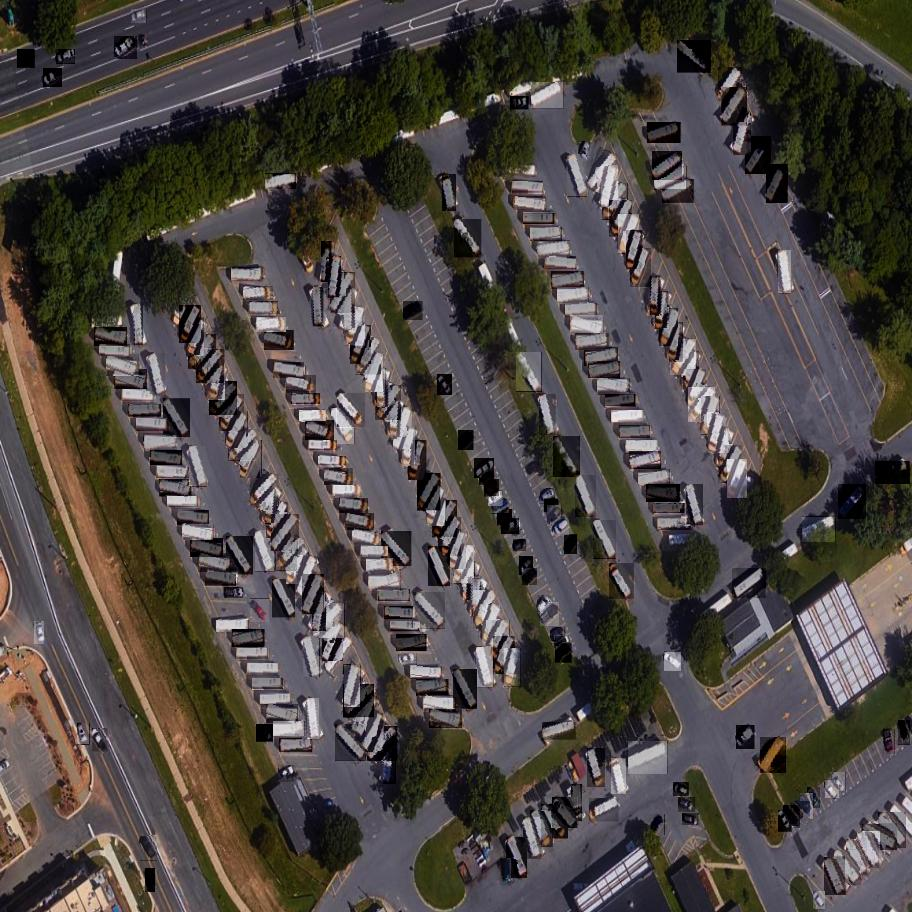large-vehicle: (625, 741, 674, 775), (412, 592, 447, 628), (334, 725, 368, 762), (586, 153, 619, 191), (676, 40, 713, 73), (324, 637, 356, 675), (453, 219, 484, 258), (312, 603, 346, 638), (366, 726, 400, 761), (552, 436, 581, 477), (381, 531, 414, 567), (342, 685, 378, 718), (271, 515, 302, 552), (163, 399, 192, 438), (249, 474, 282, 508), (688, 387, 719, 423), (731, 568, 768, 598), (878, 812, 908, 849), (329, 273, 356, 314), (225, 537, 254, 575), (744, 137, 773, 175), (515, 353, 543, 392), (721, 87, 749, 126), (336, 394, 368, 428), (188, 335, 219, 370), (718, 445, 746, 483), (275, 538, 307, 571), (208, 381, 239, 415), (196, 349, 227, 383), (838, 484, 868, 519), (539, 804, 569, 839), (760, 737, 788, 774), (355, 338, 383, 375), (417, 474, 444, 512), (228, 430, 261, 461), (834, 851, 863, 886), (670, 339, 698, 375), (602, 184, 630, 220), (272, 579, 297, 619), (593, 520, 618, 560), (861, 824, 898, 851), (218, 394, 245, 431), (473, 591, 499, 629), (801, 517, 839, 543), (856, 832, 882, 870), (375, 386, 403, 421), (609, 564, 637, 599), (438, 517, 463, 556), (453, 670, 478, 709), (765, 164, 790, 203), (505, 837, 528, 879), (432, 501, 458, 538), (486, 621, 512, 658), (302, 575, 326, 615), (362, 713, 386, 753), (651, 152, 684, 181), (286, 547, 311, 585), (717, 67, 744, 102), (531, 83, 566, 110), (428, 546, 451, 587), (356, 697, 379, 738), (574, 476, 597, 517), (493, 636, 517, 675), (331, 409, 357, 445), (240, 440, 264, 479), (824, 858, 849, 895), (265, 502, 290, 539), (225, 411, 250, 448), (566, 155, 588, 197), (727, 459, 750, 499), (530, 810, 554, 848), (178, 305, 202, 343), (322, 621, 344, 662), (297, 557, 319, 598), (609, 201, 634, 237), (629, 248, 652, 287), (552, 797, 580, 829), (393, 407, 414, 449), (654, 166, 689, 191), (453, 546, 476, 584), (350, 326, 372, 365), (344, 307, 366, 346), (618, 215, 640, 254), (874, 461, 911, 484), (846, 839, 869, 876), (524, 817, 544, 859), (732, 113, 752, 155), (658, 309, 680, 347), (686, 369, 708, 407), (255, 531, 275, 572), (426, 488, 447, 527), (588, 798, 622, 822), (408, 440, 428, 480), (365, 355, 386, 393), (662, 180, 695, 204), (482, 605, 502, 644), (189, 446, 208, 487), (344, 666, 363, 707), (148, 353, 166, 396), (701, 397, 721, 435), (708, 414, 727, 454), (303, 636, 321, 678), (539, 394, 557, 436), (601, 165, 619, 207), (106, 354, 140, 376), (586, 748, 605, 787), (186, 319, 206, 356), (476, 647, 494, 688), (686, 485, 704, 526), (208, 363, 227, 401), (198, 553, 232, 574), (114, 369, 148, 390), (266, 705, 300, 726), (570, 315, 604, 336), (647, 122, 681, 143), (449, 530, 467, 569), (626, 231, 644, 270), (629, 451, 662, 472), (191, 537, 224, 558), (504, 649, 522, 687), (541, 722, 577, 741), (683, 351, 701, 389), (94, 327, 128, 347), (585, 347, 619, 367), (429, 709, 462, 729), (368, 572, 402, 591), (779, 250, 794, 293), (312, 592, 328, 632), (551, 271, 586, 289), (160, 479, 193, 498), (264, 330, 295, 350), (646, 484, 680, 502), (143, 433, 177, 451), (232, 630, 266, 648), (305, 420, 335, 440), (396, 634, 429, 652), (423, 696, 456, 714), (588, 362, 621, 380), (285, 375, 316, 394), (328, 257, 342, 299), (402, 427, 417, 466), (669, 322, 684, 361), (575, 333, 609, 350), (537, 241, 571, 258), (611, 758, 627, 794), (639, 469, 671, 487), (655, 291, 670, 329), (416, 679, 449, 696), (205, 570, 238, 587), (182, 524, 215, 541), (597, 378, 630, 395), (345, 512, 376, 530), (442, 174, 457, 211), (307, 698, 320, 740), (324, 468, 354, 486), (384, 743, 397, 784), (280, 738, 313, 754), (557, 288, 590, 304), (321, 242, 334, 282), (274, 721, 306, 737), (265, 174, 297, 190), (352, 529, 382, 546), (256, 317, 287, 333), (150, 450, 183, 465), (544, 256, 577, 271), (273, 363, 306, 378), (514, 196, 547, 211), (178, 510, 210, 525), (625, 441, 659, 455), (410, 667, 443, 681), (338, 499, 368, 514), (385, 606, 417, 620), (619, 425, 651, 439), (366, 559, 395, 574), (531, 227, 562, 241), (650, 276, 661, 315), (129, 405, 162, 418), (611, 410, 644, 423), (314, 288, 325, 326), (565, 304, 597, 317), (266, 486, 277, 523), (244, 287, 273, 301), (232, 268, 263, 281), (605, 394, 636, 407), (378, 590, 411, 602), (571, 785, 582, 821), (391, 399, 401, 438), (720, 429, 730, 468), (658, 518, 690, 530), (249, 302, 278, 315), (217, 620, 248, 632), (100, 344, 131, 356), (157, 467, 189, 478), (378, 368, 387, 407), (122, 391, 153, 402), (247, 663, 278, 674), (260, 694, 291, 705), (523, 213, 554, 224), (137, 419, 167, 430), (135, 304, 143, 345), (332, 485, 361, 496), (512, 182, 543, 192), (473, 578, 481, 616), (654, 503, 684, 513), (168, 496, 197, 506), (291, 394, 320, 404), (236, 649, 268, 658), (345, 289, 352, 330), (309, 440, 337, 450), (467, 561, 474, 600), (252, 679, 282, 688), (361, 546, 388, 556), (390, 622, 419, 631), (300, 411, 326, 421), (319, 457, 346, 465)
small-vehicle: (789, 801, 813, 825), (538, 603, 562, 626), (114, 37, 139, 59), (735, 726, 758, 749), (250, 599, 271, 623), (139, 837, 159, 862), (473, 458, 496, 479), (41, 68, 64, 88), (782, 805, 802, 827), (662, 652, 684, 672), (402, 301, 425, 320), (800, 793, 816, 820), (457, 430, 477, 451), (92, 729, 110, 752), (546, 505, 565, 526), (649, 813, 667, 835), (555, 644, 575, 663), (499, 519, 522, 535), (17, 50, 37, 68), (551, 519, 571, 537), (277, 766, 298, 783), (437, 374, 454, 395), (55, 50, 77, 66), (255, 724, 274, 742), (778, 810, 793, 832), (898, 720, 911, 745), (483, 479, 501, 497), (500, 858, 512, 885), (830, 772, 847, 791), (518, 556, 535, 575), (536, 596, 553, 615), (554, 636, 573, 653), (563, 535, 579, 555), (77, 723, 91, 745), (807, 787, 821, 809), (521, 568, 539, 585), (496, 510, 515, 526), (491, 499, 510, 515), (487, 491, 506, 507), (812, 891, 828, 910), (884, 729, 896, 754), (539, 488, 557, 504), (398, 652, 417, 667), (678, 797, 697, 812), (578, 142, 592, 162), (825, 781, 841, 798), (479, 471, 497, 486), (673, 783, 690, 798), (145, 869, 156, 892), (34, 621, 45, 644), (130, 10, 149, 23), (224, 587, 244, 599), (682, 813, 700, 826), (549, 628, 567, 641), (510, 97, 528, 109), (544, 500, 560, 513), (511, 540, 528, 551)
